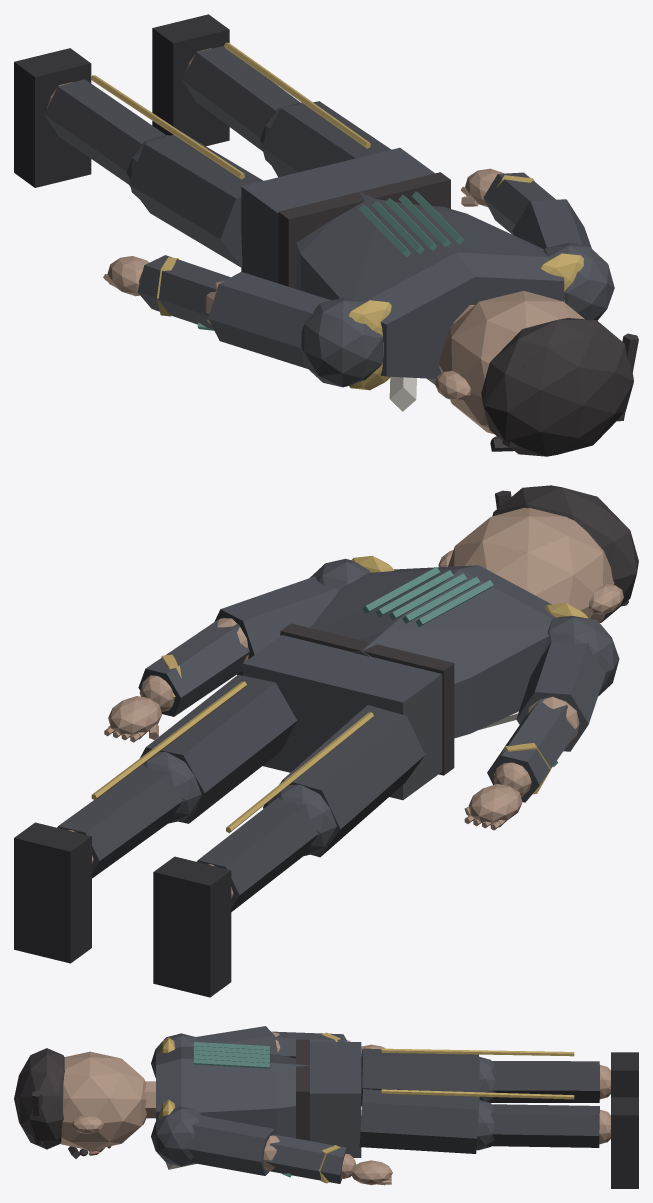
The model's file is Lowpoly_Yakuza_Character.glb.
The picture shows the model from 3 angles, top to bottom: view 1: azimuth 30°, elevation 25°; view 2: azimuth 150°, elevation 25°; view 3: azimuth 270°, elevation 25°; orthographic projection. The views are drawn at different scales.
Visible parts, largest first — view 1: angular_suit_jacket, hair_cap, L_trouser_thigh, pelvis, L_shoe, L_sleeve_upper, head, R_shoe, L_trouser_shin, R_trouser_shin, L_shoulder_joint, R_trouser_thigh (+13 smaller); view 2: angular_suit_jacket, pelvis, head, L_shoe, R_shoe, R_trouser_thigh, L_trouser_thigh, R_trouser_shin, L_trouser_shin, hair_cap, R_sleeve_forearm, L_sleeve_upper (+14 smaller); view 3: angular_suit_jacket, R_trouser_thigh, head, pelvis, L_trouser_thigh, R_trouser_shin, L_trouser_shin, hair_cap, R_sleeve_upper, R_shoe, R_sleeve_forearm, R_shoulder_joint (+22 smaller).
Boxes of the visible parts, bbox=[...] form: angular_suit_jacket: bbox=[296, 191, 564, 378]; hair_cap: bbox=[481, 318, 633, 456]; L_trouser_thigh: bbox=[128, 132, 263, 267]; pelvis: bbox=[241, 147, 434, 283]; L_shoe: bbox=[14, 48, 91, 187]; L_sleeve_upper: bbox=[208, 271, 331, 368]; head: bbox=[438, 290, 584, 434]; R_shoe: bbox=[152, 14, 229, 146]; L_trouser_shin: bbox=[44, 79, 165, 184]; R_trouser_shin: bbox=[182, 46, 300, 151]; L_shoulder_joint: bbox=[301, 297, 383, 387]; R_trouser_thigh: bbox=[261, 101, 390, 177]; angular_suit_jacket: bbox=[310, 565, 555, 738]; pelvis: bbox=[243, 635, 442, 800]; head: bbox=[448, 508, 614, 622]; L_shoe: bbox=[153, 856, 231, 997]; R_shoe: bbox=[14, 822, 91, 963]; R_trouser_thigh: bbox=[140, 675, 297, 823]; L_trouser_thigh: bbox=[263, 705, 425, 857]; R_trouser_shin: bbox=[57, 764, 183, 878]; L_trouser_shin: bbox=[197, 797, 318, 911]; hair_cap: bbox=[492, 485, 638, 622]; R_sleeve_forearm: bbox=[138, 620, 249, 716]; L_sleeve_upper: bbox=[516, 640, 605, 751]; angular_suit_jacket: bbox=[156, 1046, 310, 1138]; R_trouser_thigh: bbox=[359, 1089, 479, 1153]; head: bbox=[60, 1051, 146, 1150]; pelvis: bbox=[310, 1042, 361, 1157]; L_trouser_thigh: bbox=[361, 1048, 479, 1106]; R_trouser_shin: bbox=[491, 1104, 599, 1147]; L_trouser_shin: bbox=[491, 1061, 599, 1102]; hair_cap: bbox=[14, 1048, 64, 1149]; R_sleeve_upper: bbox=[188, 1115, 276, 1175]; R_shoe: bbox=[611, 1097, 638, 1188]; R_sleeve_forearm: bbox=[266, 1134, 346, 1183]; R_shoulder_joint: bbox=[151, 1106, 201, 1166].
Size of the model in its own units: 1.21 by 0.45 by 2.47.
